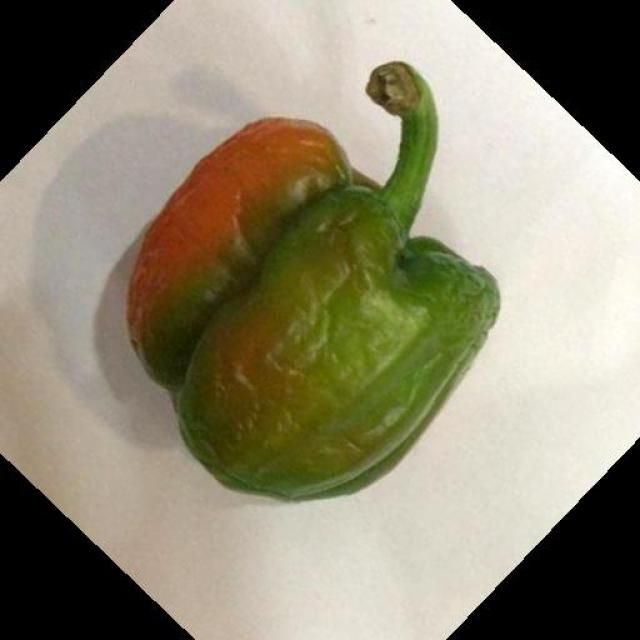Stale_Capsicum: (139, 61, 468, 486)
